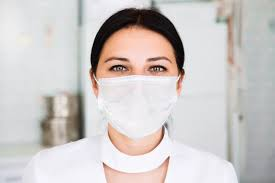mask: (93, 20, 181, 137)
